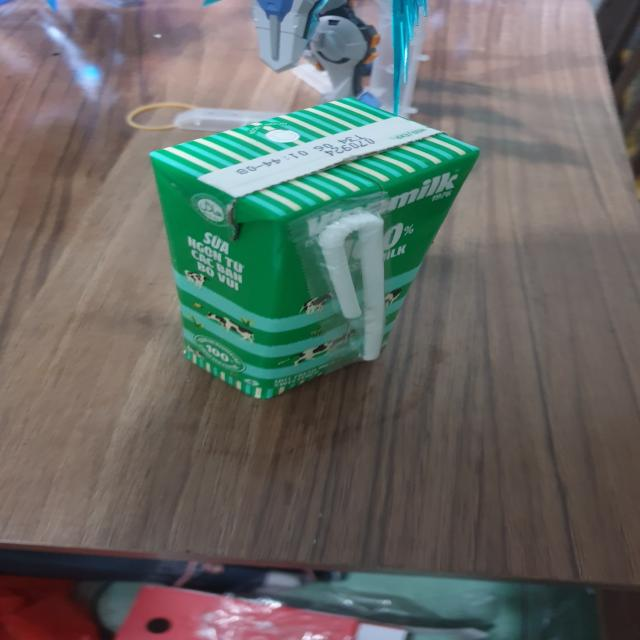Vina: (148, 96, 475, 396)
